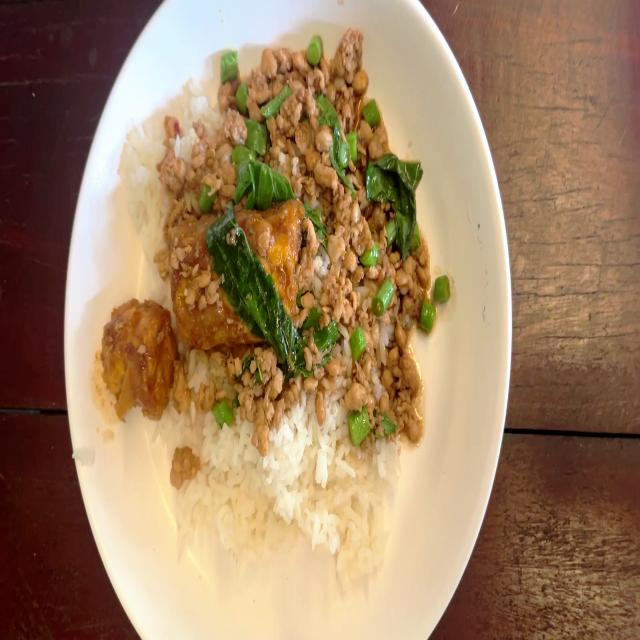fried_tofo: (162, 211, 304, 335), (100, 304, 170, 411)
minced_pork: (162, 47, 400, 206), (306, 199, 442, 453), (179, 336, 317, 434)
rice: (162, 422, 403, 566), (125, 100, 153, 250)
stir_fried_basil: (101, 31, 448, 588)
